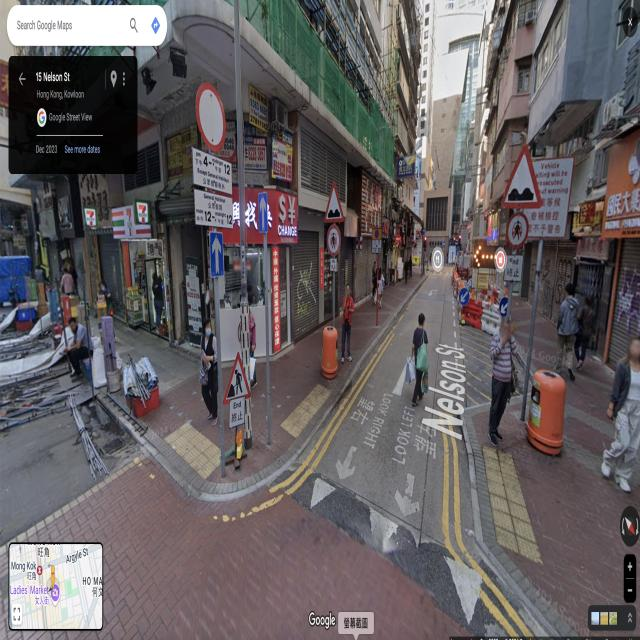Direction-Sign: (210, 234, 224, 276), (259, 194, 268, 231)
Order-Sign: (538, 162, 569, 240), (192, 148, 233, 195), (196, 83, 224, 146), (195, 191, 234, 228), (509, 217, 527, 247), (328, 227, 342, 255), (508, 254, 522, 280), (230, 403, 244, 426), (372, 228, 381, 254), (459, 289, 468, 307), (501, 298, 509, 316), (330, 258, 337, 274)
Warning-Sign: (500, 142, 543, 208), (224, 356, 252, 400), (324, 179, 345, 222)
